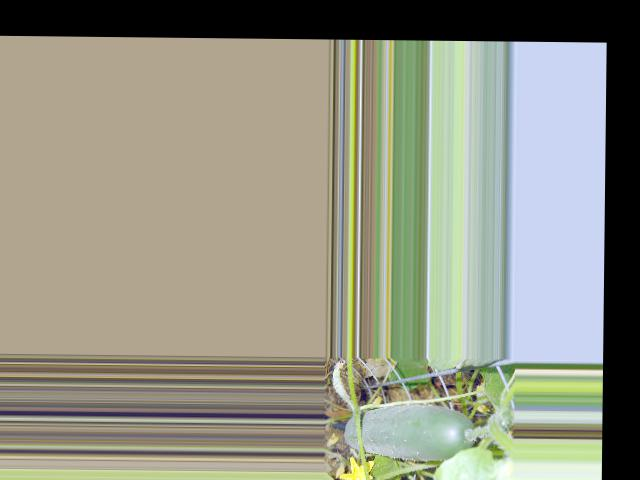cucumber: (345, 402, 475, 460)
